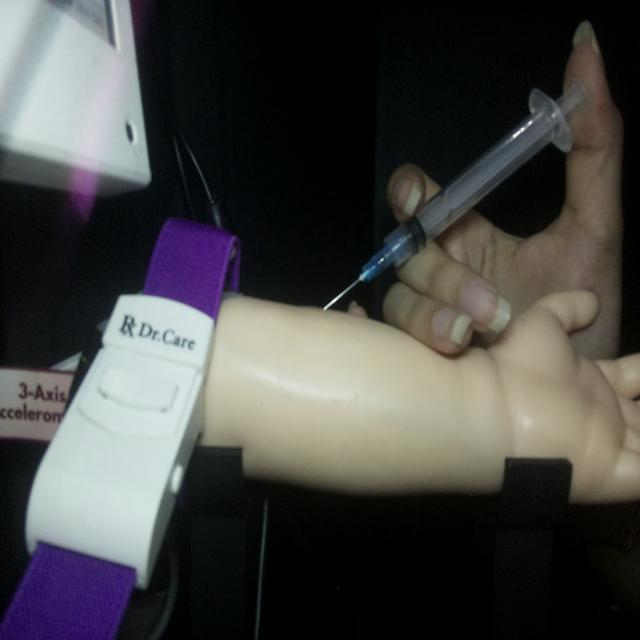28 degrees: (321, 74, 589, 314)
